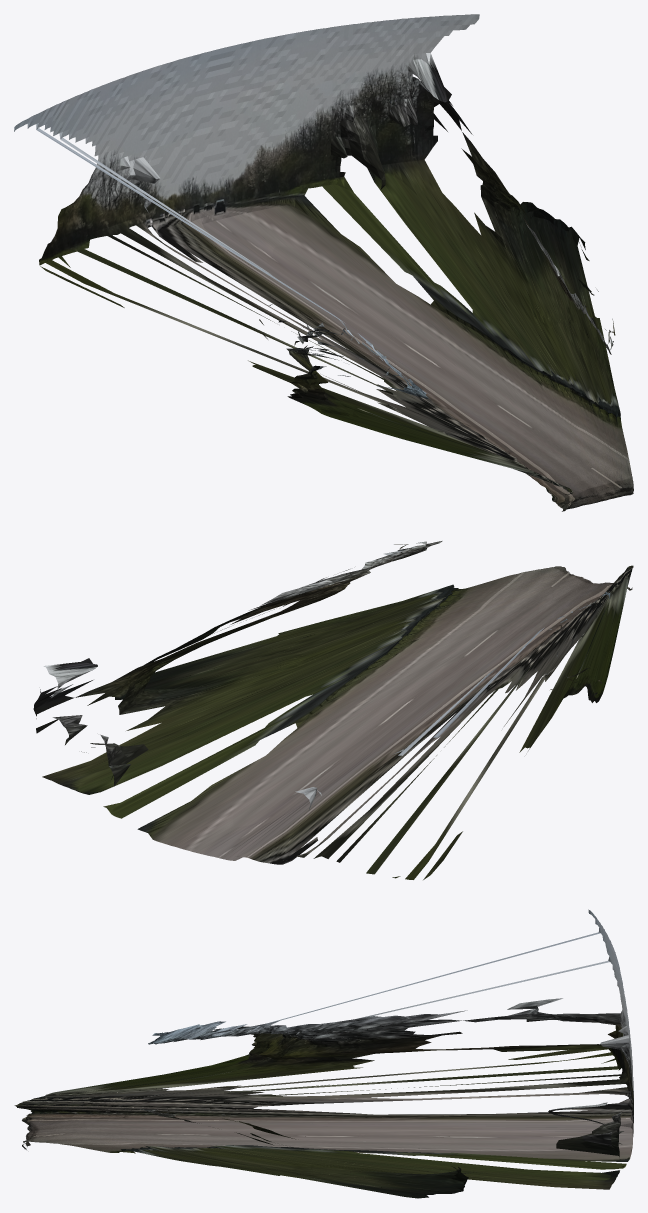
The picture shows the model from 3 angles, top to bottom: view 1: azimuth 30°, elevation 25°; view 2: azimuth 150°, elevation 25°; view 3: azimuth 270°, elevation 25°; orthographic projection. The views are drawn at different scales.
Visible parts, largest first — view 1: defaultobject; view 2: defaultobject; view 3: defaultobject.
Part boxes in pixels (x1,y1,x2,y2): defaultobject: [14, 14, 633, 511]; defaultobject: [33, 541, 633, 879]; defaultobject: [14, 909, 633, 1198].
Size of the model in its own units: 31.05 by 11.69 by 45.1.
Materials: 1 (1 with a texture image).
